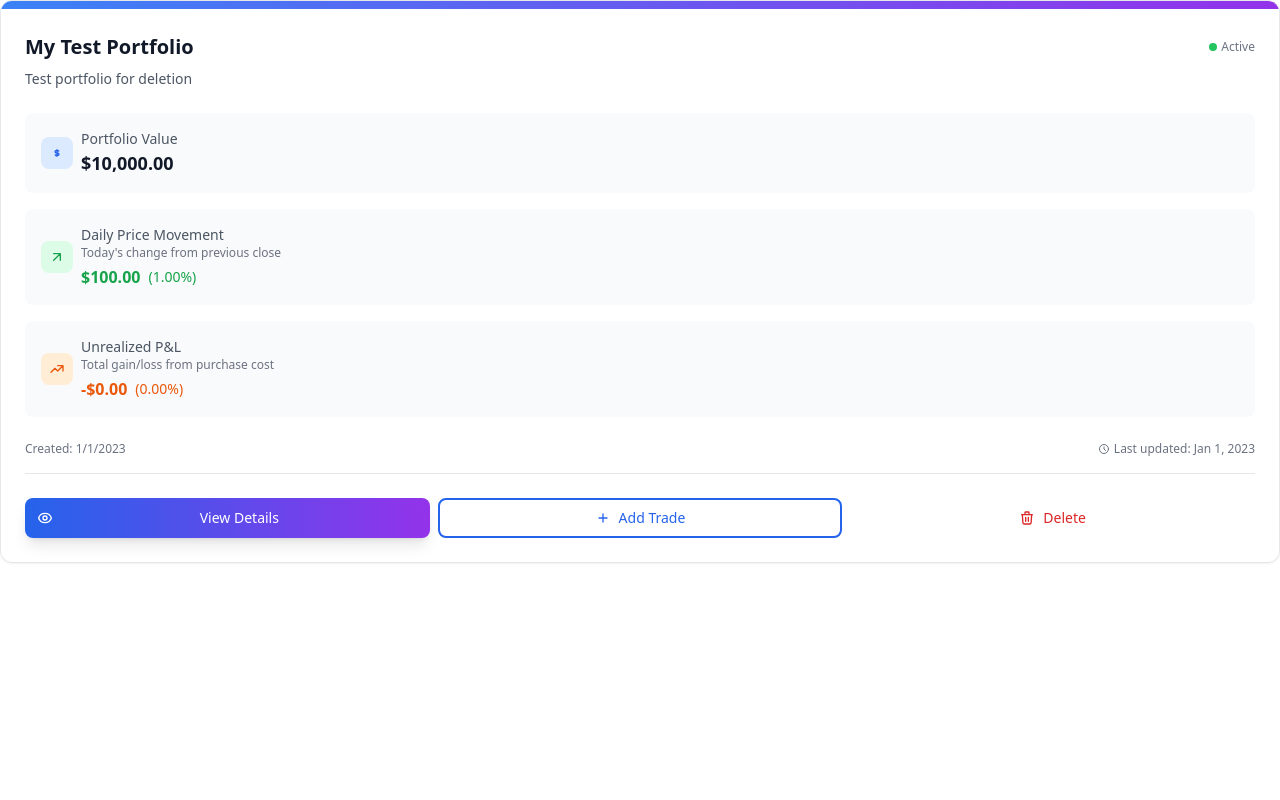
it: PortfolioCard with Delete Functionality › should close modal when cancel is clicked
The image size is (1280, 800).
Note: Open modal
Click the button "Delete": (1053, 518) [850,498,1255,538]
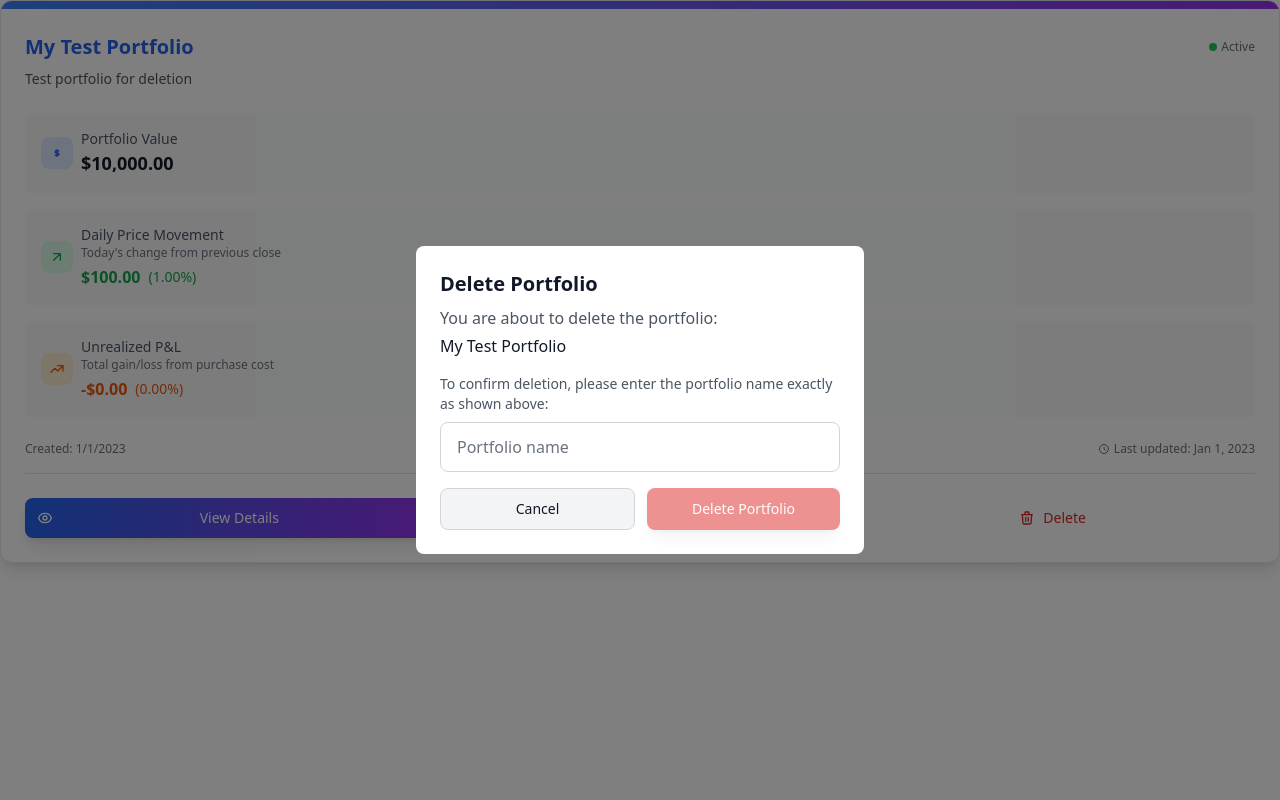
Note: Close modal
Click the button "Cancel": (538, 509) [440,488,635,530]
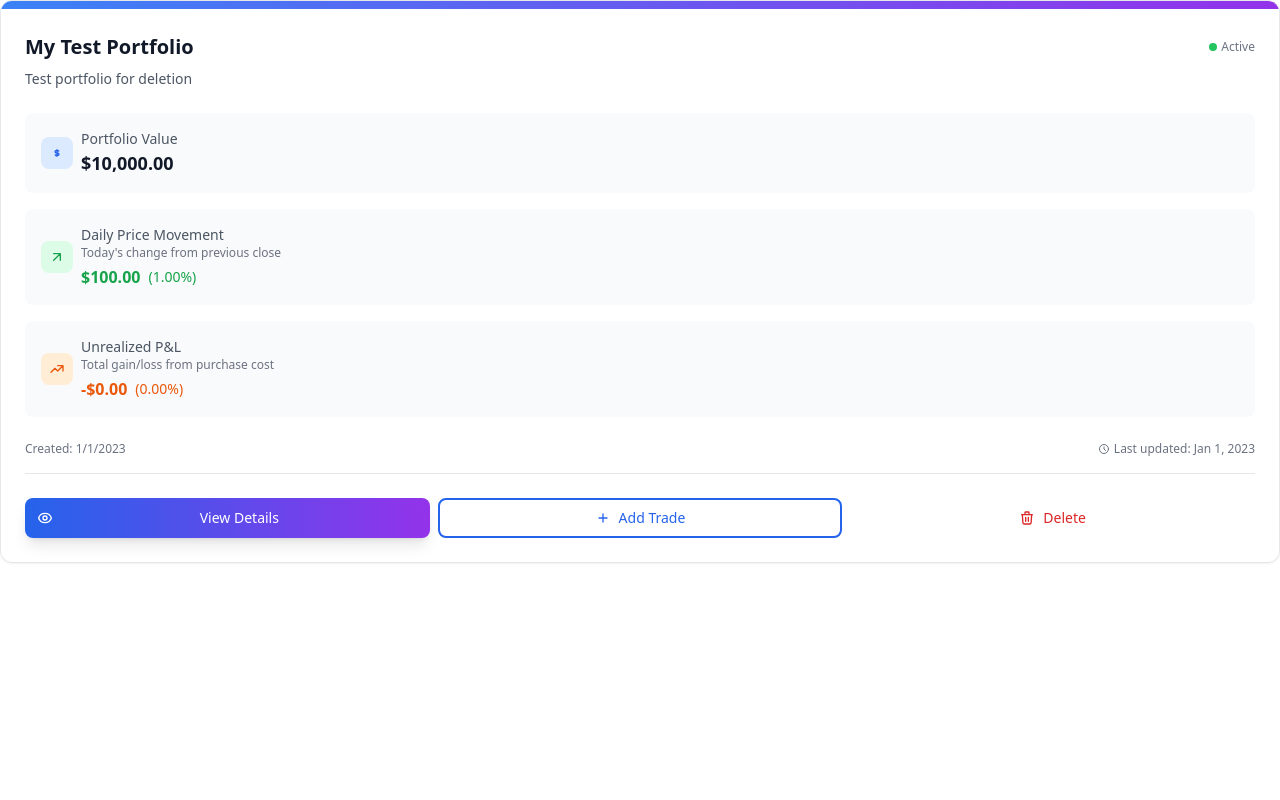
Expected: the heading "Delete Portfolio" is gone
